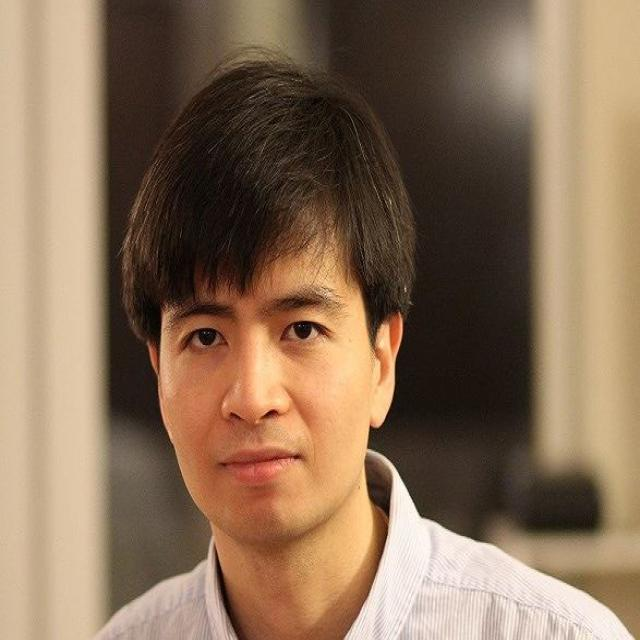Nonhelmet: (120, 71, 416, 553)
